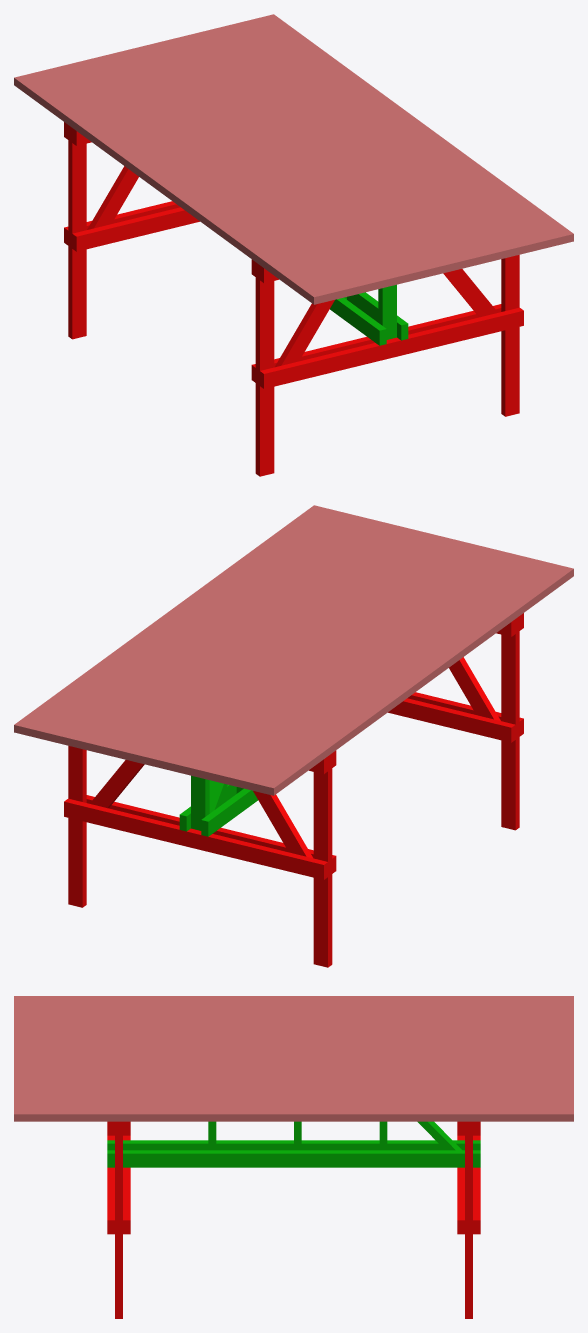
File: result.glb
3 renders of one model, top to bottom at view 1: azimuth 30°, elevation 25°; view 2: azimuth 150°, elevation 25°; view 3: azimuth 270°, elevation 25°, orthographic. The views are drawn at different scales.
Visible parts, largest first — view 1: b363922c-eeba-4e1c-803d-b73838a9ec17__Box, 63977daf-87ec-4a71-a891-094f2f0c5b03__sideH, d1ce144e-d4d8-4f96-bd5e-d9685a9ed644__undefined, bc240e7b-4acc-48aa-8e20-72ce442170ae__undefined, c47f1281-2d30-4213-8977-1c3d38dc9277__undefined, d6405d1f-9d86-4eb2-a731-4886dc736dc2__undefined, 0fea2721-be5b-4175-9423-e48c7d1e5003__undefined, 39161c27-09b4-4b47-aad9-c8be70a15c4e__undefined, cc4420e7-a7fd-4fa5-abdc-e0df76436f45__undefined, 4a61503f-b8c5-4dae-8223-4ca16892a4dc__undefined, c6b2f371-2afd-4360-961c-4c7d3ee63201__undefined, 105c8bda-17d8-4d0e-ad93-9ca49fba76db__undefined (+19 smaller); view 2: b363922c-eeba-4e1c-803d-b73838a9ec17__Box, a583b05d-830b-4990-b262-02dac4e88d7f__undefined, d1ce144e-d4d8-4f96-bd5e-d9685a9ed644__undefined, bc240e7b-4acc-48aa-8e20-72ce442170ae__undefined, c47f1281-2d30-4213-8977-1c3d38dc9277__undefined, d6405d1f-9d86-4eb2-a731-4886dc736dc2__undefined, 0fea2721-be5b-4175-9423-e48c7d1e5003__undefined, 39161c27-09b4-4b47-aad9-c8be70a15c4e__undefined, cc4420e7-a7fd-4fa5-abdc-e0df76436f45__undefined, 4a61503f-b8c5-4dae-8223-4ca16892a4dc__undefined, c6b2f371-2afd-4360-961c-4c7d3ee63201__undefined, 105c8bda-17d8-4d0e-ad93-9ca49fba76db__undefined (+18 smaller); view 3: a22a9d11-ab0e-4cc6-aae5-05ccbef60722__undefined, cb23b571-2b7e-4805-9c13-7acb05ed15aa__strutH, ae7c2b16-a07b-4622-932b-c48193ebfbfd__undefined, c47f1281-2d30-4213-8977-1c3d38dc9277__undefined, 1e144331-e162-4544-a34c-8e93f337a27c__undefined, b363922c-eeba-4e1c-803d-b73838a9ec17__Box, 20a6154a-58d9-4f15-92c1-0a2e26cc8bda__undefined, 68b47776-8d5d-49e1-a65b-fe2697a1b009__undefined, 90455e28-2c0c-4abc-a753-d6d8ad969957__undefined, 39161c27-09b4-4b47-aad9-c8be70a15c4e__undefined, bc240e7b-4acc-48aa-8e20-72ce442170ae__undefined, c6b2f371-2afd-4360-961c-4c7d3ee63201__undefined (+15 smaller).
Boxes of the visible parts, x1,y1,x2,y2 form: b363922c-eeba-4e1c-803d-b73838a9ec17__Box: (14, 74, 328, 304); 63977daf-87ec-4a71-a891-094f2f0c5b03__sideH: (260, 307, 523, 388); d1ce144e-d4d8-4f96-bd5e-d9685a9ed644__undefined: (202, 28, 516, 258); bc240e7b-4acc-48aa-8e20-72ce442170ae__undefined: (101, 53, 415, 283); c47f1281-2d30-4213-8977-1c3d38dc9277__undefined: (130, 46, 443, 276); d6405d1f-9d86-4eb2-a731-4886dc736dc2__undefined: (173, 35, 487, 265); 0fea2721-be5b-4175-9423-e48c7d1e5003__undefined: (245, 17, 559, 248); 39161c27-09b4-4b47-aad9-c8be70a15c4e__undefined: (86, 56, 400, 286); cc4420e7-a7fd-4fa5-abdc-e0df76436f45__undefined: (158, 39, 472, 269); 4a61503f-b8c5-4dae-8223-4ca16892a4dc__undefined: (216, 25, 530, 255); c6b2f371-2afd-4360-961c-4c7d3ee63201__undefined: (115, 49, 429, 279); 105c8bda-17d8-4d0e-ad93-9ca49fba76db__undefined: (187, 32, 501, 262); b363922c-eeba-4e1c-803d-b73838a9ec17__Box: (259, 565, 573, 795); a583b05d-830b-4990-b262-02dac4e88d7f__undefined: (64, 798, 327, 879); d1ce144e-d4d8-4f96-bd5e-d9685a9ed644__undefined: (71, 519, 385, 749); bc240e7b-4acc-48aa-8e20-72ce442170ae__undefined: (172, 544, 486, 774); c47f1281-2d30-4213-8977-1c3d38dc9277__undefined: (144, 537, 457, 767); d6405d1f-9d86-4eb2-a731-4886dc736dc2__undefined: (100, 526, 414, 756); 0fea2721-be5b-4175-9423-e48c7d1e5003__undefined: (28, 508, 342, 739); 39161c27-09b4-4b47-aad9-c8be70a15c4e__undefined: (187, 547, 501, 777); cc4420e7-a7fd-4fa5-abdc-e0df76436f45__undefined: (115, 530, 429, 760); 4a61503f-b8c5-4dae-8223-4ca16892a4dc__undefined: (57, 516, 371, 746); c6b2f371-2afd-4360-961c-4c7d3ee63201__undefined: (158, 540, 472, 770); 105c8bda-17d8-4d0e-ad93-9ca49fba76db__undefined: (86, 523, 400, 753); a22a9d11-ab0e-4cc6-aae5-05ccbef60722__undefined: (14, 1108, 573, 1121); cb23b571-2b7e-4805-9c13-7acb05ed15aa__strutH: (107, 1150, 480, 1167); ae7c2b16-a07b-4622-932b-c48193ebfbfd__undefined: (14, 1002, 573, 1009); c47f1281-2d30-4213-8977-1c3d38dc9277__undefined: (14, 1048, 573, 1055); 1e144331-e162-4544-a34c-8e93f337a27c__undefined: (14, 1094, 573, 1101); b363922c-eeba-4e1c-803d-b73838a9ec17__Box: (14, 996, 573, 1002); 20a6154a-58d9-4f15-92c1-0a2e26cc8bda__undefined: (14, 1009, 573, 1015); 68b47776-8d5d-49e1-a65b-fe2697a1b009__undefined: (14, 1016, 573, 1022); 90455e28-2c0c-4abc-a753-d6d8ad969957__undefined: (14, 1022, 573, 1028); 39161c27-09b4-4b47-aad9-c8be70a15c4e__undefined: (14, 1029, 573, 1035); bc240e7b-4acc-48aa-8e20-72ce442170ae__undefined: (14, 1035, 573, 1041); c6b2f371-2afd-4360-961c-4c7d3ee63201__undefined: (14, 1042, 573, 1048).
Bounding box in the file's own units: 900 × 725 × 1800.
